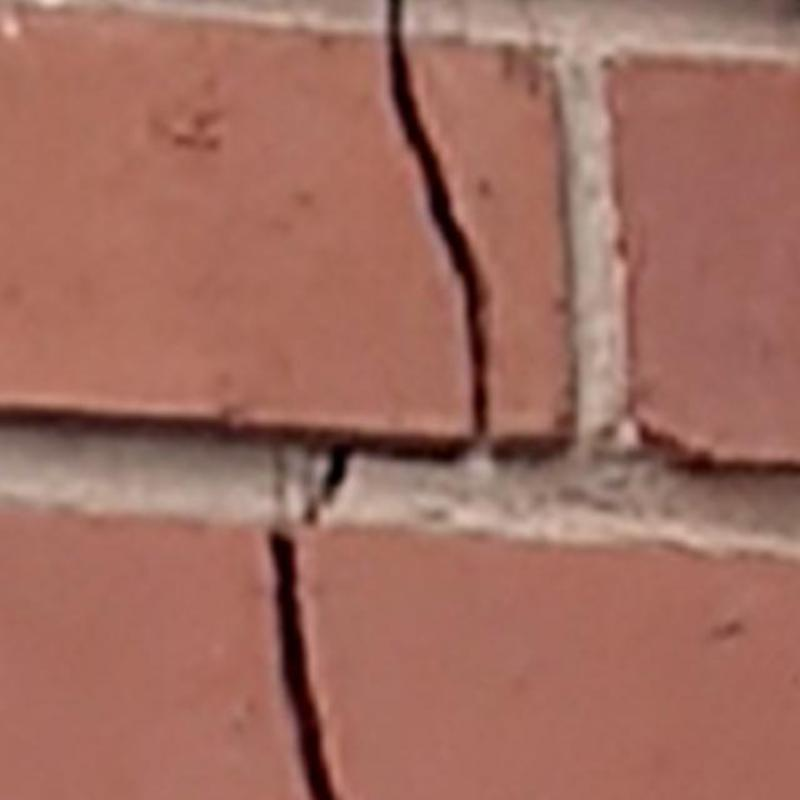pothole: (388, 0, 488, 443), (269, 530, 336, 799), (305, 445, 348, 523), (274, 441, 288, 529), (301, 445, 316, 499)
